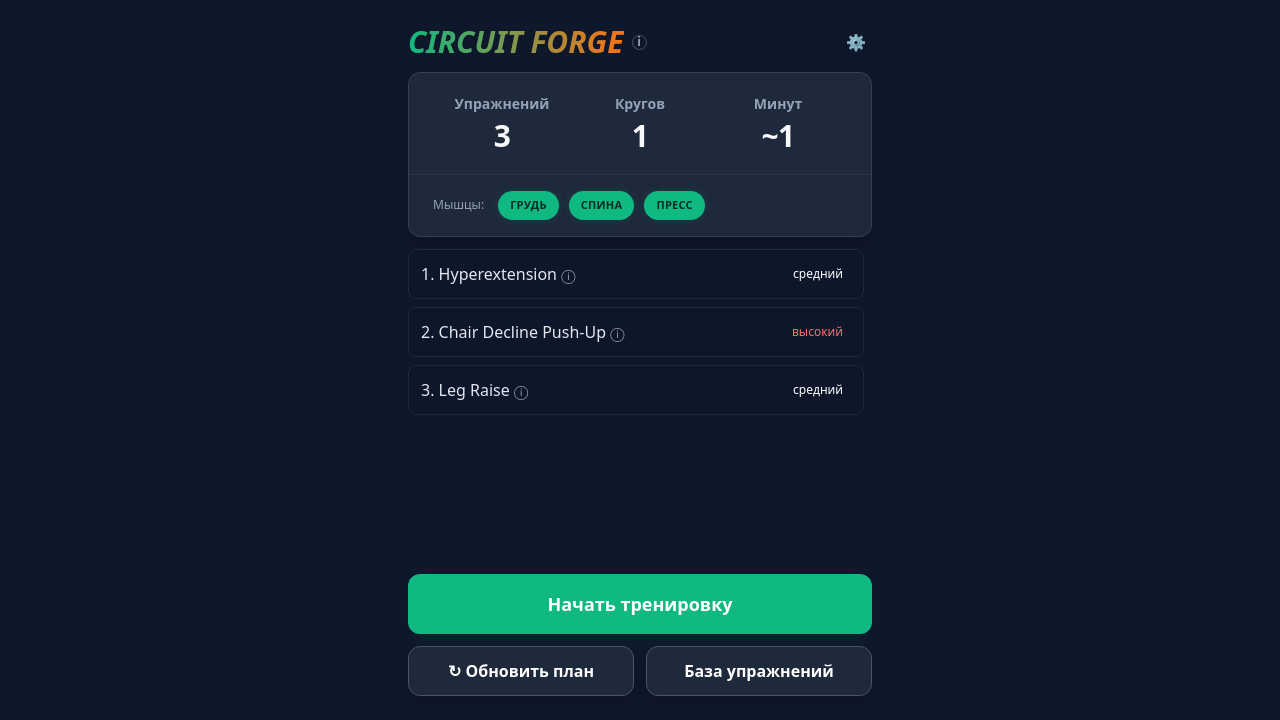
Test: workoutFlow (integration) › настройки влияют на тренировку: изменить длительность → начать → таймер использует новое значение
Step 1. Click the button "Начать тренировку" → (640, 604), box top-left (408, 574), bottom-right (872, 634)
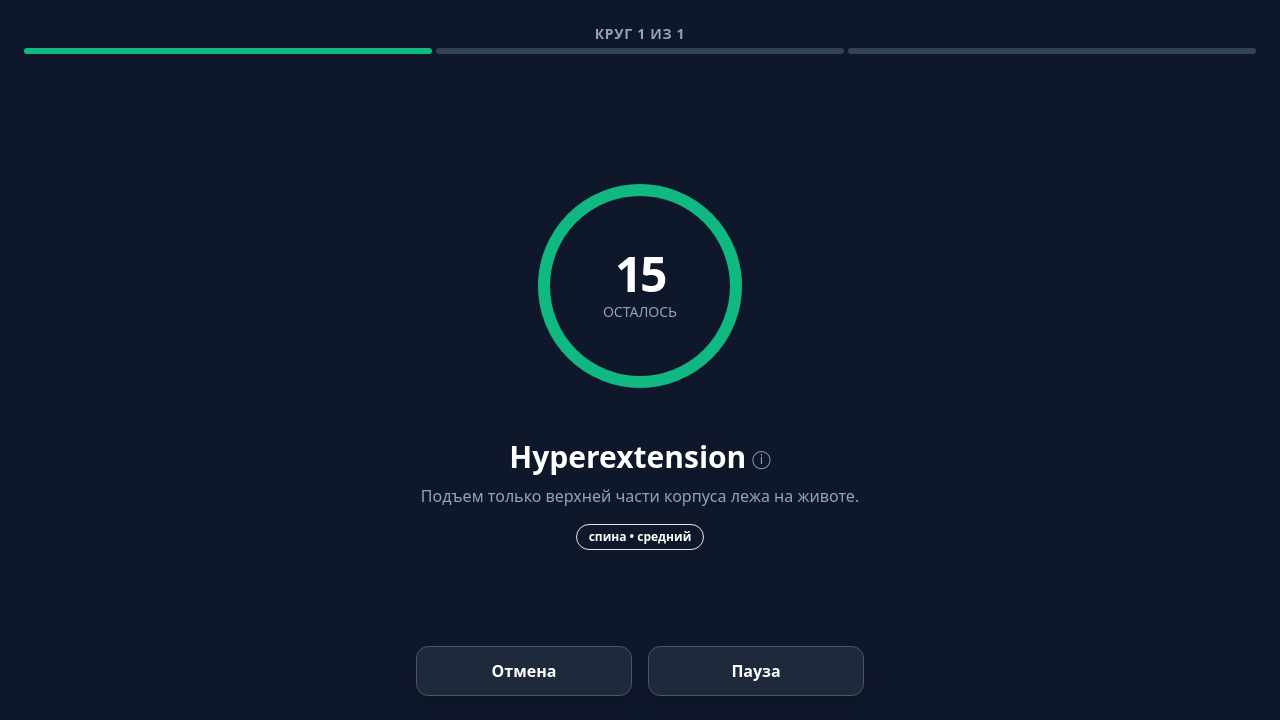
Check: the text "15" is shown, box top-left (615, 250), bottom-right (665, 298)
Check: the text "ОСТАЛОСЬ" is shown, box top-left (603, 302), bottom-right (677, 322)
